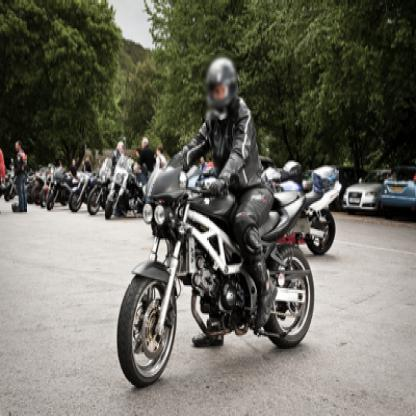Helmet: (197, 57, 241, 120)
